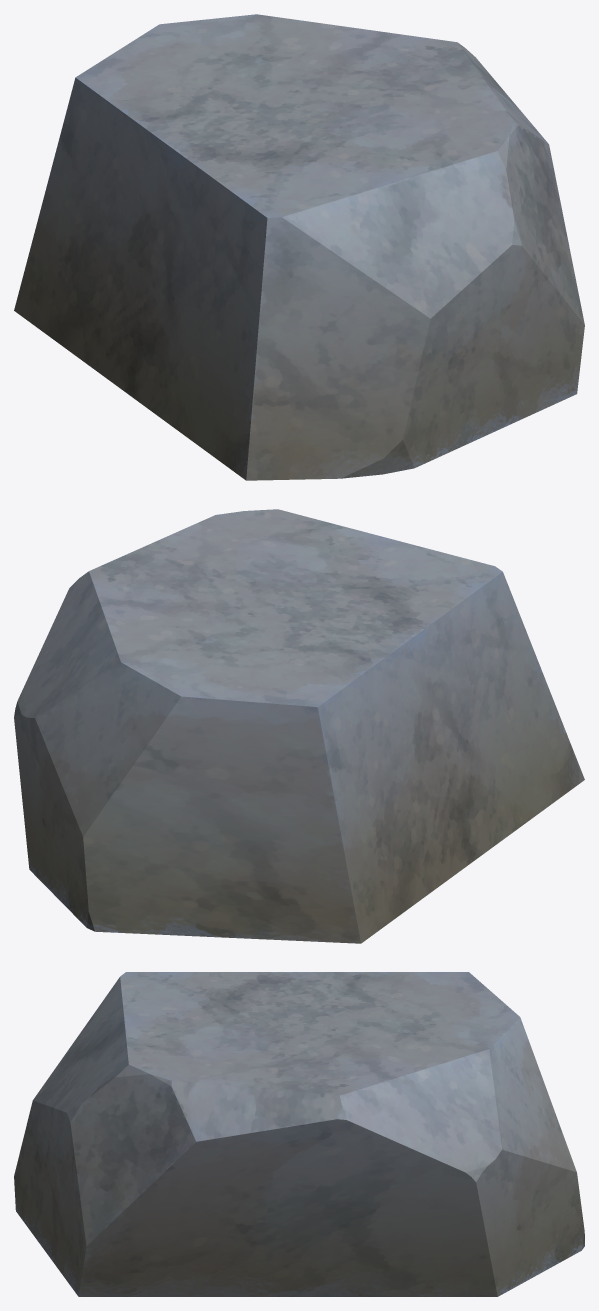
File: Rock_4.fbx
3 views of the same model, one above another, from view 1: azimuth 30°, elevation 25°; view 2: azimuth 150°, elevation 25°; view 3: azimuth 270°, elevation 25° (orthographic). The views are drawn at different scales.
Parts seen in each view (by area): view 1: Rock_4_low; view 2: Rock_4_low; view 3: Rock_4_low.
Boxes of the visible parts, <box> form: Rock_4_low: <box>14,14,584,480</box>; Rock_4_low: <box>14,509,584,943</box>; Rock_4_low: <box>14,972,584,1296</box>.
Size of the model in its own units: 1.34 by 0.8056 by 1.95.
